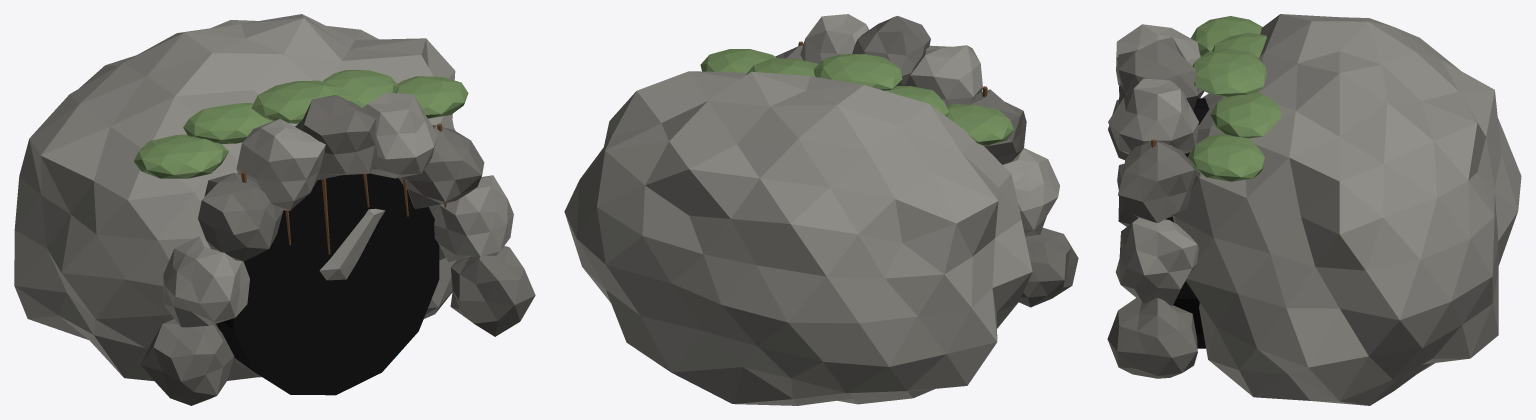
Rendered from for_cave_v01.glb.
The picture shows the model from 3 angles, left to right: view 1: azimuth 30°, elevation 25°; view 2: azimuth 150°, elevation 25°; view 3: azimuth 270°, elevation 25°; orthographic projection. The views are drawn at different scales.
Visible parts, largest first — view 1: cave; view 2: cave; view 3: cave.
Part boxes in pixels (box(x1,y1,x2,y2)): cave: box(14, 14, 535, 405); cave: box(564, 14, 1078, 405); cave: box(1107, 14, 1521, 405).
Size of the model in its own units: 7.37 by 5.36 by 6.02.
